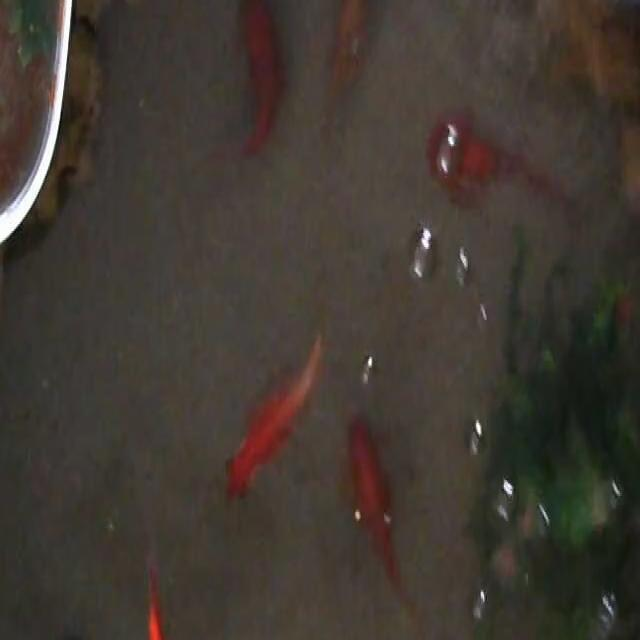fish: (226, 323, 326, 501), (423, 104, 573, 214), (344, 410, 410, 612), (223, 0, 284, 162), (323, 0, 371, 121), (127, 554, 185, 640)
